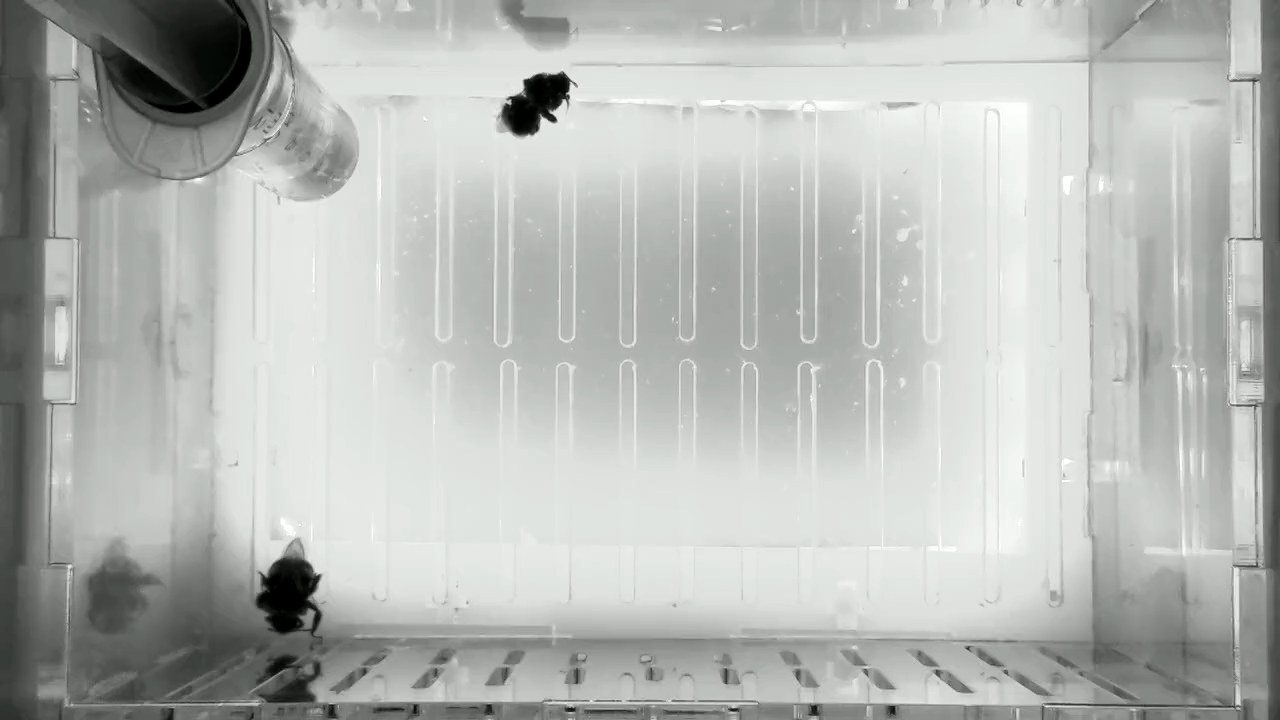bee_dead: (254, 538, 333, 644), (492, 68, 582, 140)
feeder: (227, 44, 364, 210)
